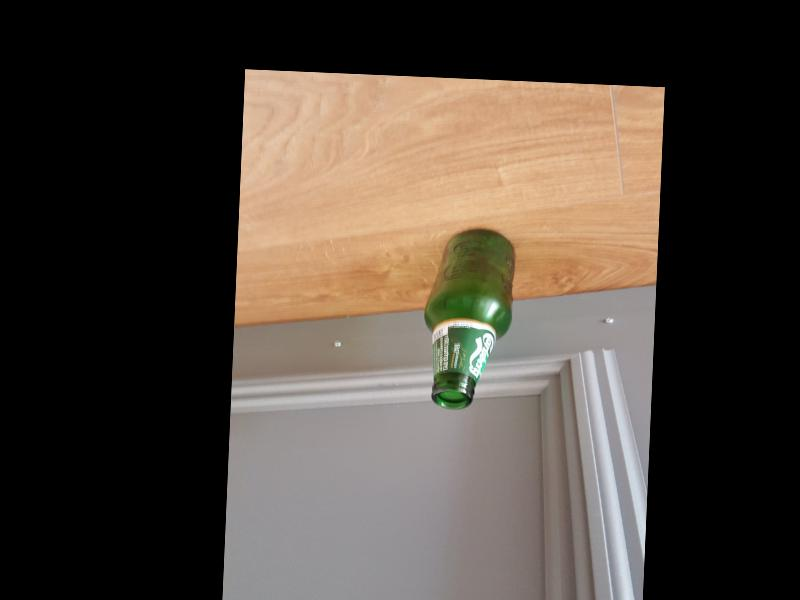Beer: (419, 226, 517, 411)
